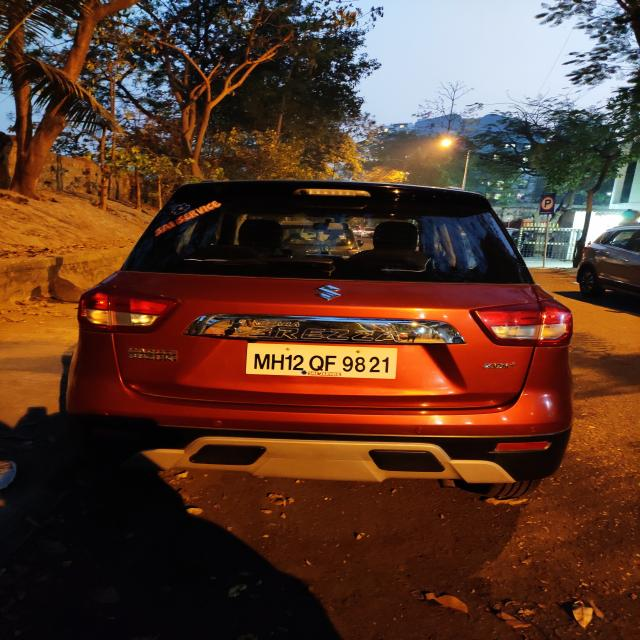Number-Plate: (247, 345, 393, 378)
